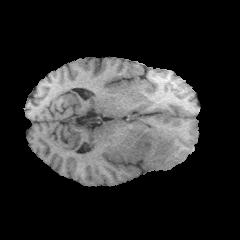glioma: (127, 108, 180, 168)
